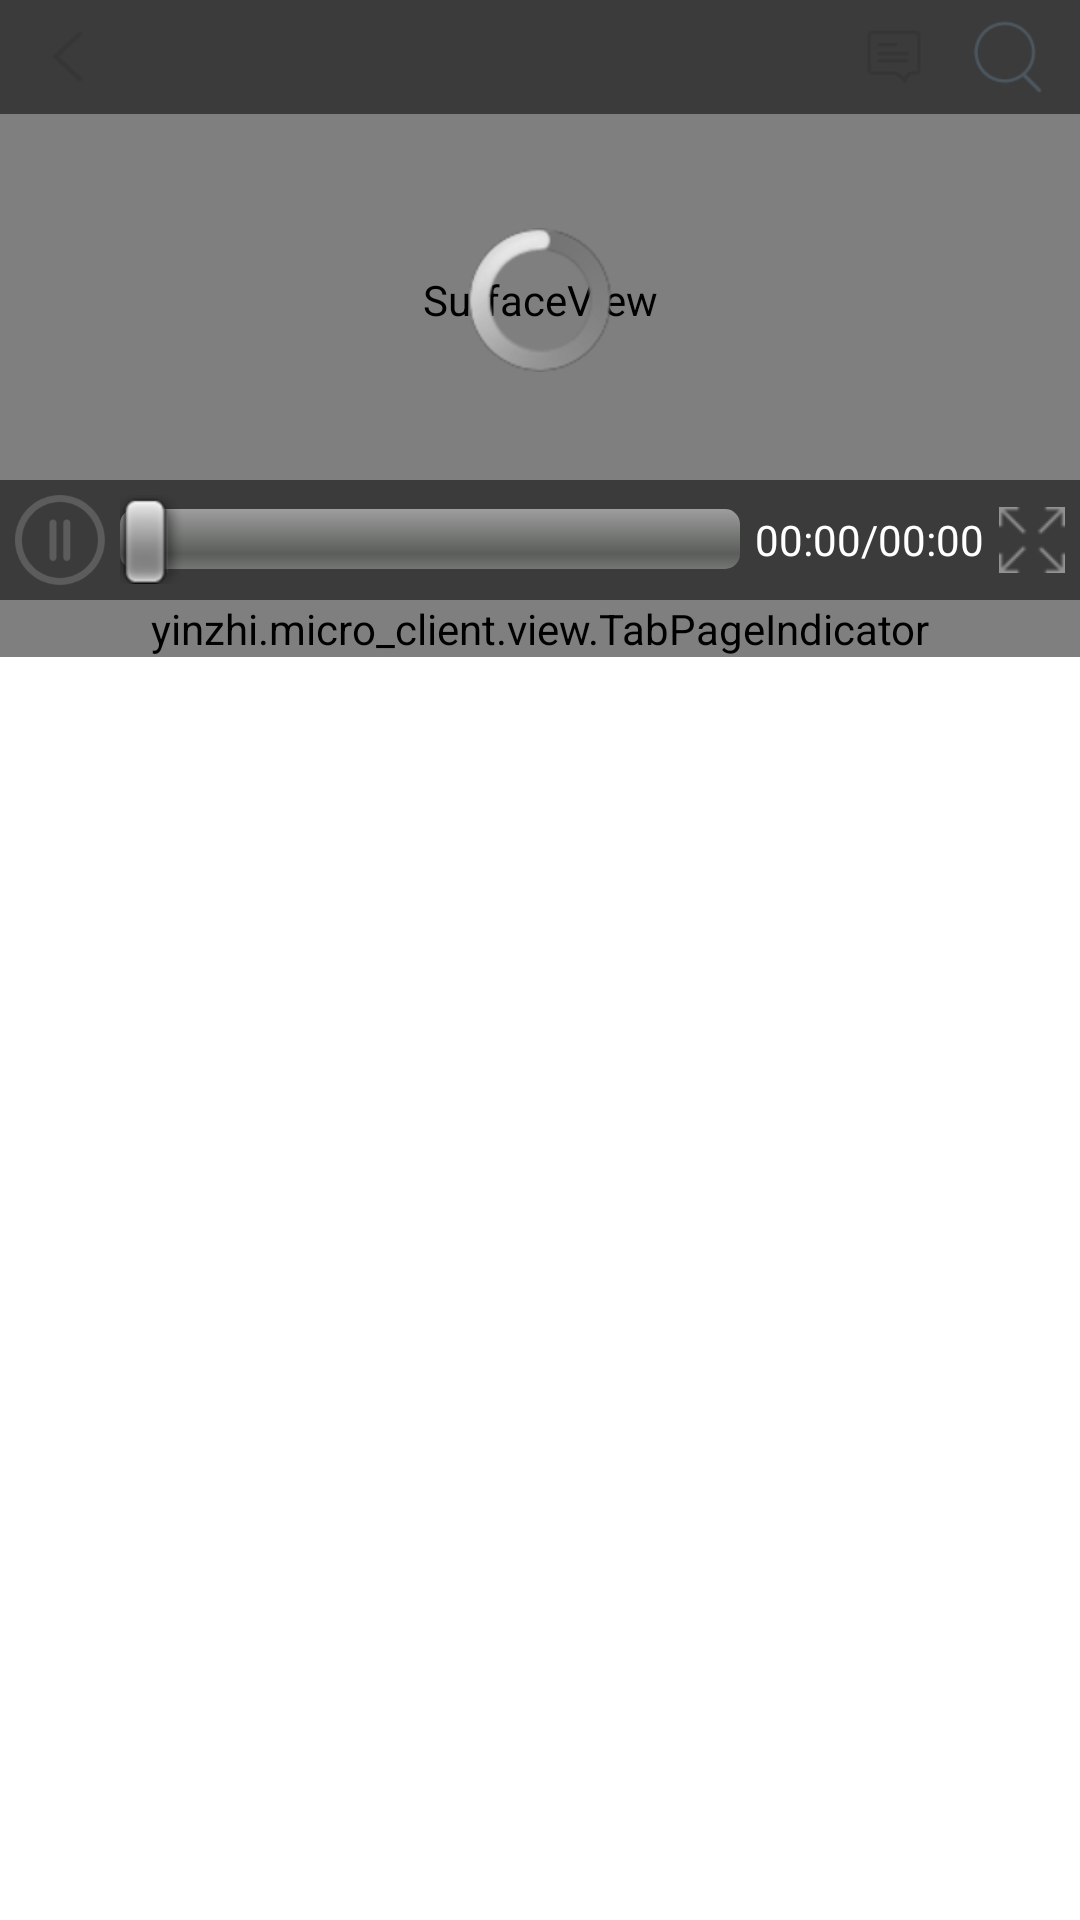

Where to tap for icons on this 1080w x 1920h app screen, as [x,y]:
biggervideo: [1032,540]
video pause: [60,540]
video subtitle search: [1008,57]
